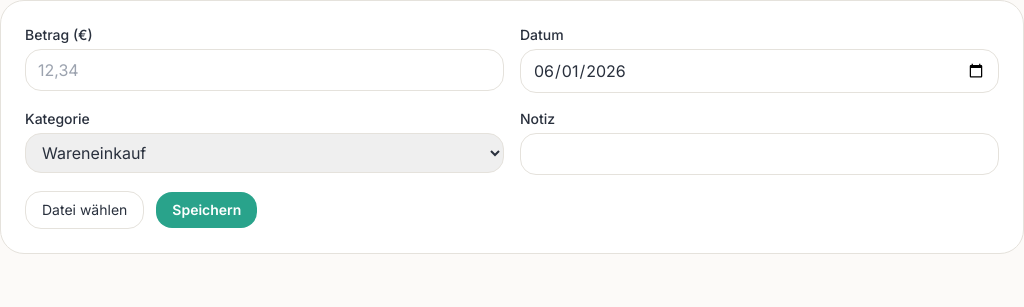
Test: ReceiptForm › shows an error and does not signal saved when addReceipt rejects
Type "5" into the field labelled "Betrag (€)" at (264, 70), box [25,49,504,91]
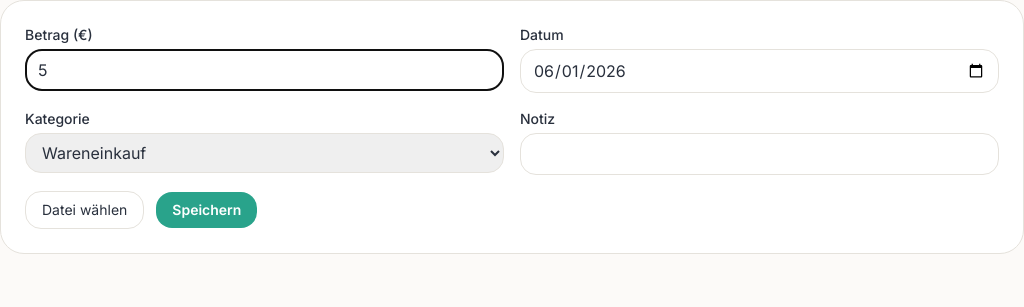
Click the button "Speichern" at (207, 210), box [156,192,257,228]
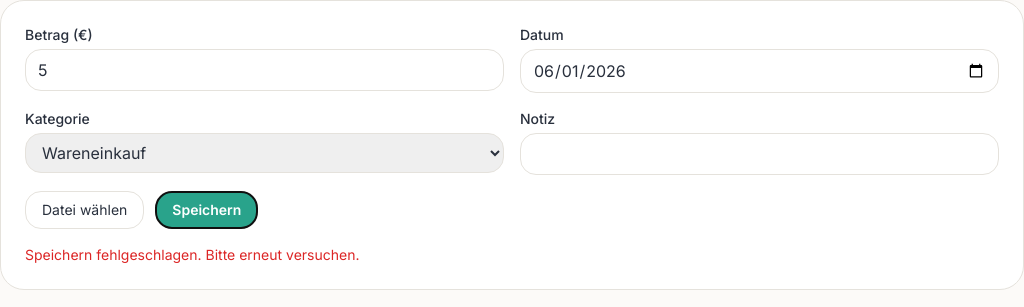
Check: the text "Speichern fehlgeschlagen. Bitte erneut versuchen." is shown, box [25,246,360,263]
